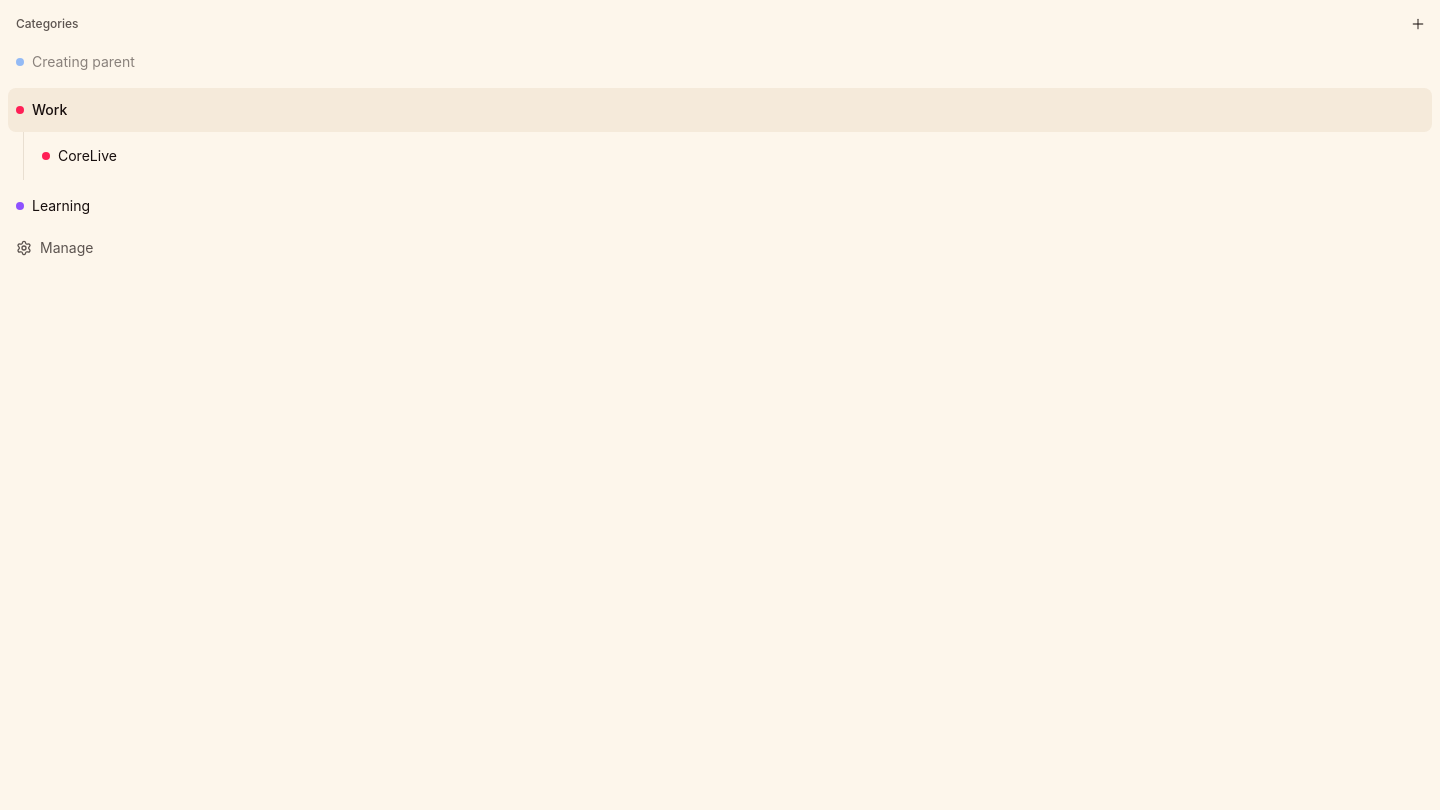
sidebar creation offers only confirmed main categories as parents
Click the button named "Add category" at (1418,24), box [1408, 14, 1428, 34]
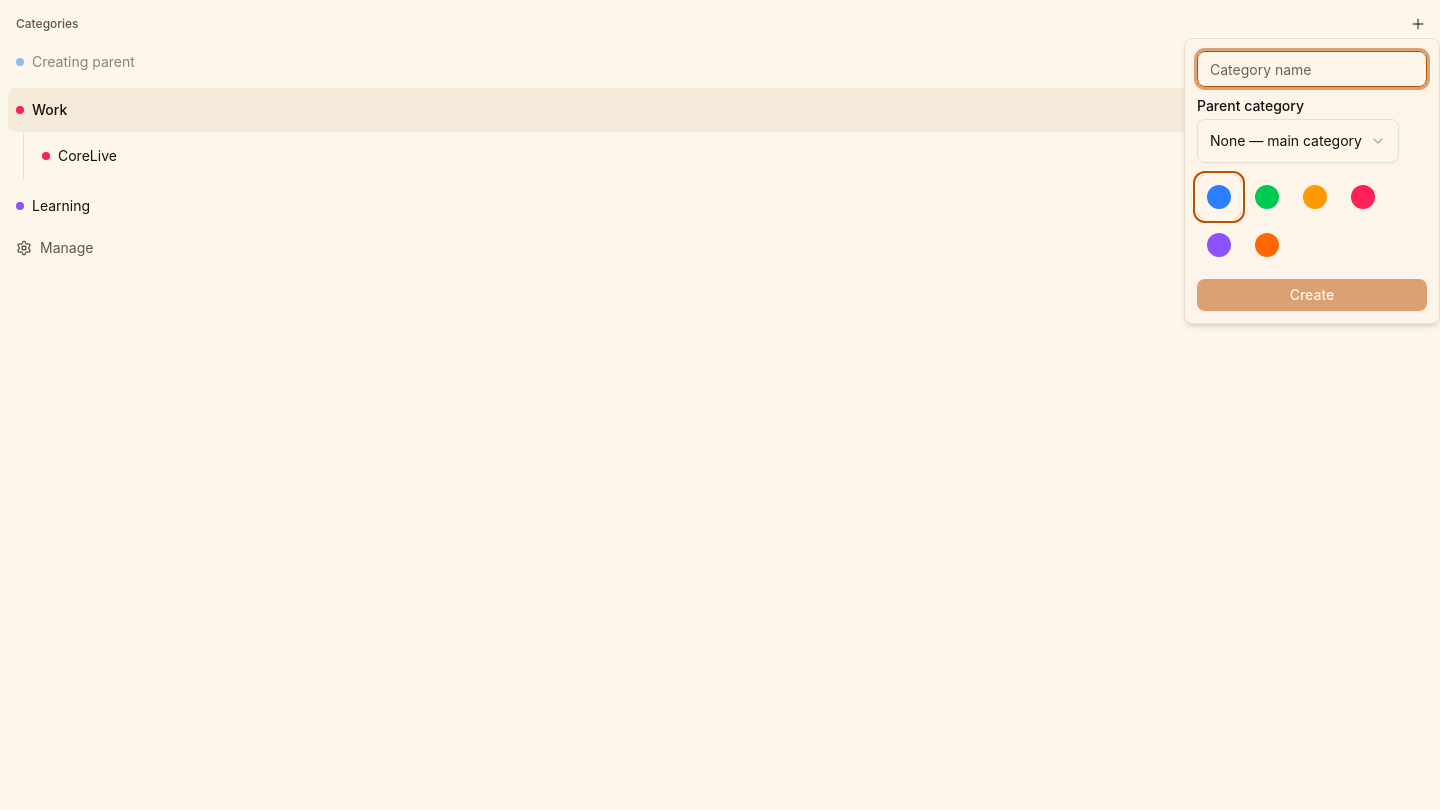
Click the dropdown named "Parent category" at (1298,141), box [1197, 119, 1399, 163]
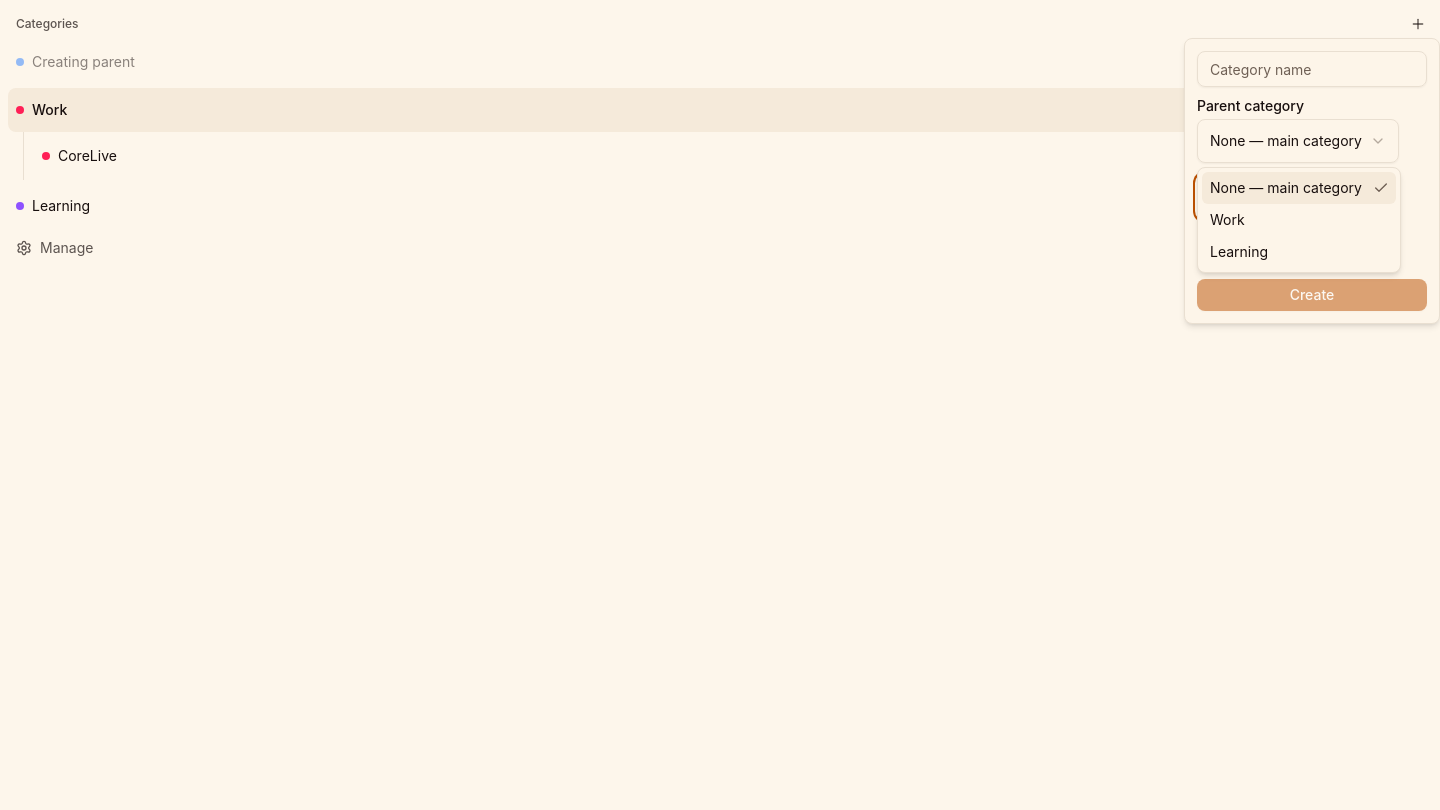
Now the option "Work" is shown, box [1210, 211, 1245, 228]
Now the option "Learning" is shown, box [1210, 243, 1268, 260]
